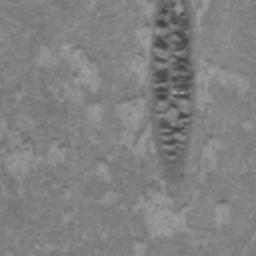Oxide scale of plate system: (146, 0, 198, 188)
